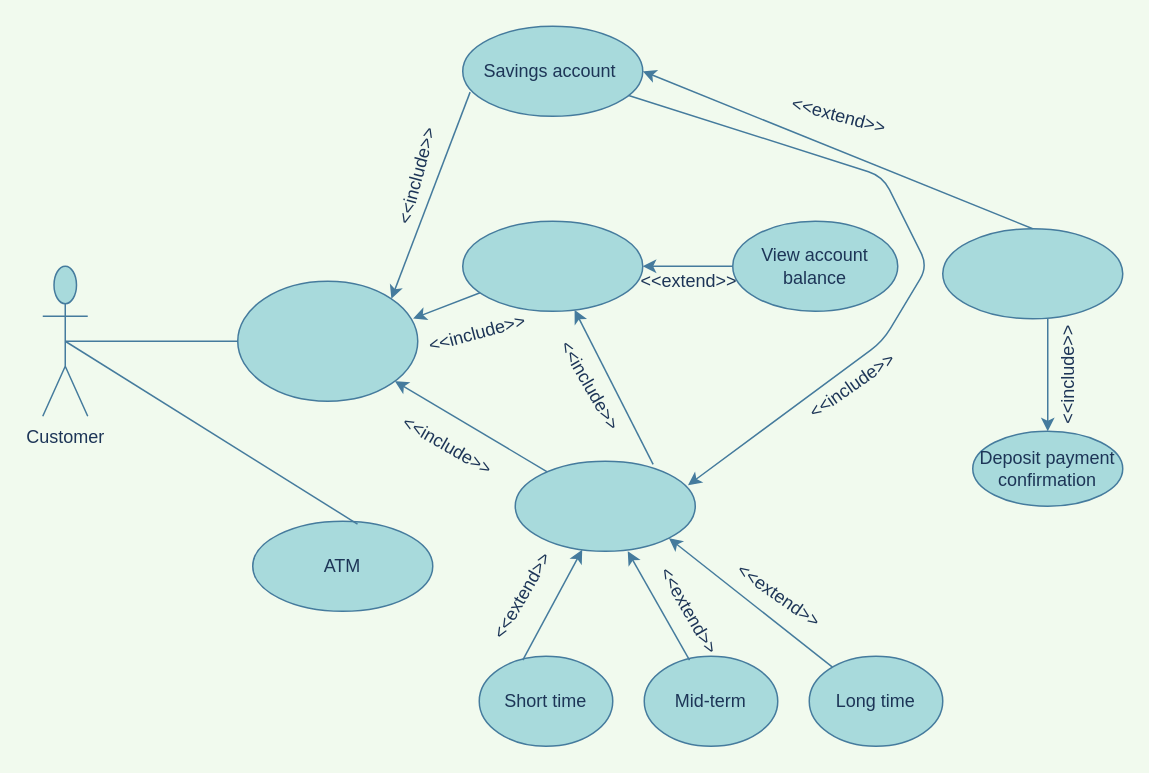
Image size: 1149x773. Some labels were removed from this diagram. The shapes that lost their labels are listed below. From the top down, each one's centre as x and y in pixels, then its label:
the point at 552,265: Curent account
the point at 1032,273: Deposit settlement
the point at 327,340: Login function
the point at 604,505: Deposit account
